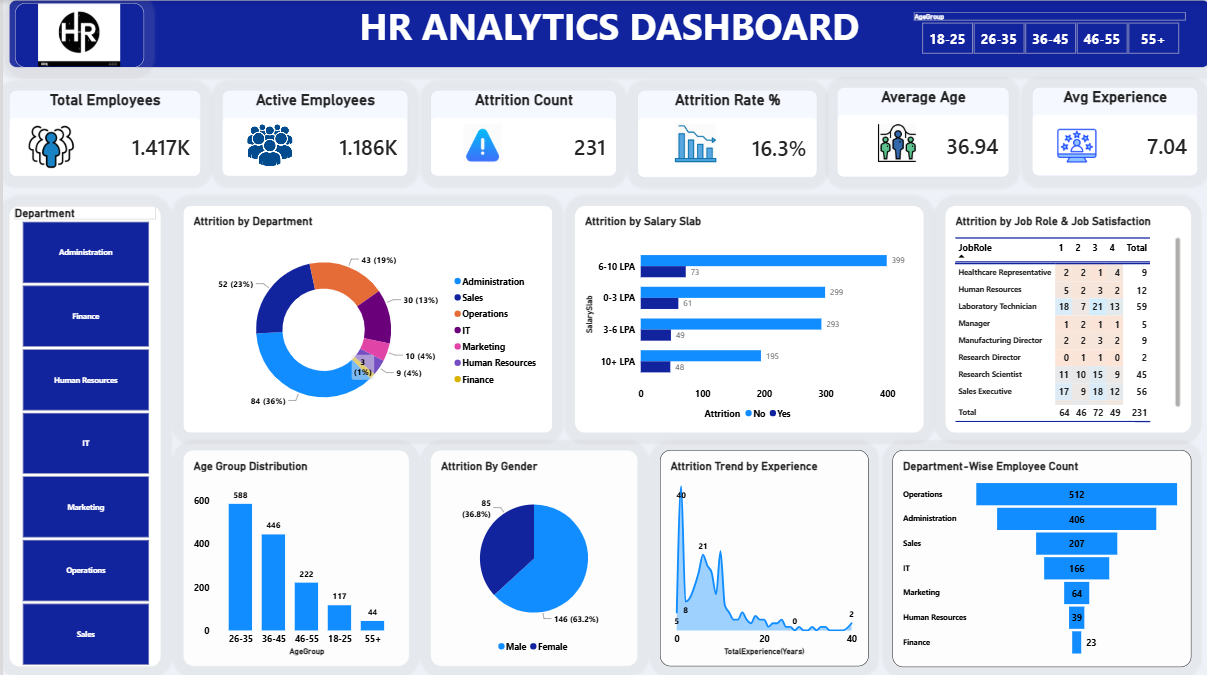

The page's visual inventory and layout, read from the dashboard file:
{"tool":"powerbi","page":{"name":"Page 1","canvas":[1920,1080],"ordinal":0},"visuals":[{"type":"textbox","box":[10,0,1910,107.5],"z":0},{"type":"image","box":[20,5,205,102.5],"z":1000},{"type":"cardVisual","title":"Total Employees","fields":{"Data":["CountNonNull(HR_Analytics-4.EmpID)"]},"box":[10,143,305,138],"z":2000},{"type":"cardVisual","title":"Attrition Rate %","fields":{"Data":["HR_Analytics-4.Attrition Rate %"]},"box":[1010,142,286,140],"z":3000},{"type":"cardVisual","title":"Active Employees","fields":{"Data":["CountNonNull(HR_Analytics-4.EmployeeCount)"]},"box":[349,144,296,138],"z":4000},{"type":"cardVisual","title":"Avg Experience","fields":{"Data":["Avg(HR_Analytics-4.YearsatCompany)"]},"box":[1637,139,264,142],"z":5000},{"type":"cardVisual","title":"Attrition Count","fields":{"Data":["Sum(HR_Analytics-4.AttritionCount)"]},"box":[680,144,296.2,137.5],"z":6000},{"type":"cardVisual","title":"Average Age","fields":{"Data":["Avg(HR_Analytics-4.Age)"]},"box":[1327,138,274,144],"z":7000},{"type":"image","box":[31.2,193.8,91.2,76.2],"z":8000},{"type":"image","box":[1378.8,195,85,63.8],"z":9000},{"type":"image","box":[1058.8,195,85,66.2],"z":10000},{"type":"image","box":[723.8,195,80,63.8],"z":11000},{"type":"image","box":[379,197,90,66.2],"z":12000},{"type":"image","box":[1669,201,76.2,62.5],"z":13000},{"type":"donutChart","title":"Attrition by Department","fields":{"Category":["HR_Analytics-4.Department"],"Y":["Sum(HR_Analytics-4.AttritionCount)"]},"box":[286,326,588,362],"z":14000},{"type":"clusteredBarChart","title":"Attrition by Salary Slab","fields":{"Category":["HR_Analytics-4.SalarySlab"],"Series":["HR_Analytics-4.Attrition"],"Y":["CountNonNull(HR_Analytics-4.EmpID)"]},"box":[908,326,556,362],"z":15000},{"type":"pivotTable","title":"Attrition by Job Role & Job Satisfaction","fields":{"Columns":["HR_Analytics-4.JobSatisfaction"],"Rows":["HR_Analytics-4.JobRole"],"Values":["Sum(HR_Analytics-4.AttritionCount)"]},"box":[1498,326,392,362],"z":16000},{"type":"columnChart","title":"Age Group Distribution","fields":{"Category":["HR_Analytics-4.AgeGroup"],"Y":["Sum(HR_Analytics-4.EmployeeCount)"]},"box":[286,716,360,344],"z":17000},{"type":"pieChart","title":"Attrition By Gender","fields":{"Category":["HR_Analytics-4.Gender"],"Y":["Sum(HR_Analytics-4.AttritionCount)"]},"box":[680,716,330,344],"z":18000},{"type":"areaChart","title":"Attrition Trend by Experience","fields":{"Category":["HR_Analytics-4.TotalExperience(Years)"],"Y":["Sum(HR_Analytics-4.AttritionCount)"]},"box":[1046,716,332,344],"z":19000},{"type":"funnel","title":"Department-Wise Employee Count","fields":{"Category":["HR_Analytics-4.Department"],"Y":["CountNonNull(HR_Analytics-4.EmpID)"]},"box":[1415,715,475,345],"z":20000},{"type":"slicer","title":"Department","fields":{"Values":["HR_Analytics-4.Department"]},"box":[10,326,242,734],"z":21000},{"type":"slicer","title":"Department","fields":{"Values":["HR_Analytics-4.AgeGroup"]},"box":[1442,20,448,68],"z":21001}]}

Visuals, with their boxes in screenshot pixels (x1, y1, x2, y2), scaled from the page's 1920x1080 canvas onto the 1207x675 screenshot:
textbox: 6/0/1206/67
image: 13/3/141/67
"Total Employees" cardVisual: 6/89/198/176
"Attrition Rate %" cardVisual: 635/89/815/176
"Active Employees" cardVisual: 219/90/405/176
"Avg Experience" cardVisual: 1029/87/1195/176
"Attrition Count" cardVisual: 427/90/614/176
"Average Age" cardVisual: 834/86/1006/176
image: 20/121/77/169
image: 867/122/920/162
image: 666/122/719/163
image: 455/122/505/162
image: 238/123/295/164
image: 1049/126/1097/165
"Attrition by Department" donutChart: 180/204/549/430
"Attrition by Salary Slab" clusteredBarChart: 571/204/920/430
"Attrition by Job Role & Job Satisfaction" pivotTable: 942/204/1188/430
"Age Group Distribution" columnChart: 180/448/406/662
"Attrition By Gender" pieChart: 427/448/635/662
"Attrition Trend by Experience" areaChart: 658/448/866/662
"Department-Wise Employee Count" funnel: 890/447/1188/662
"Department" slicer: 6/204/158/662
"Department" slicer: 907/12/1188/55
